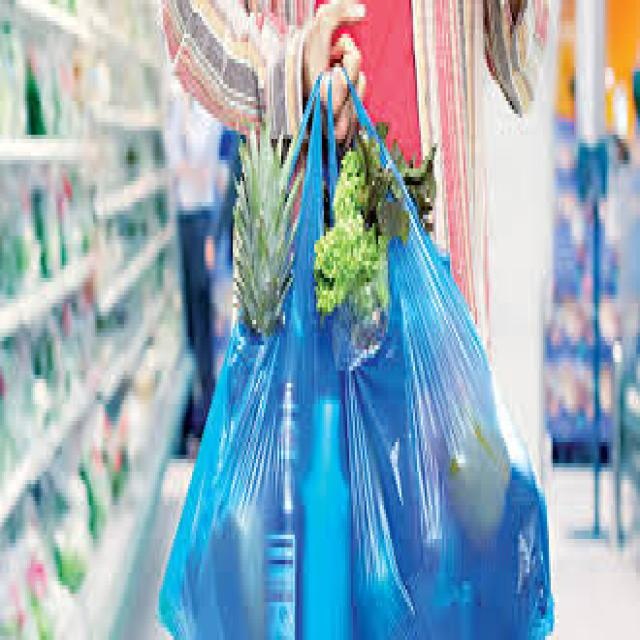organic waste: (306, 114, 432, 337), (230, 114, 298, 337)
